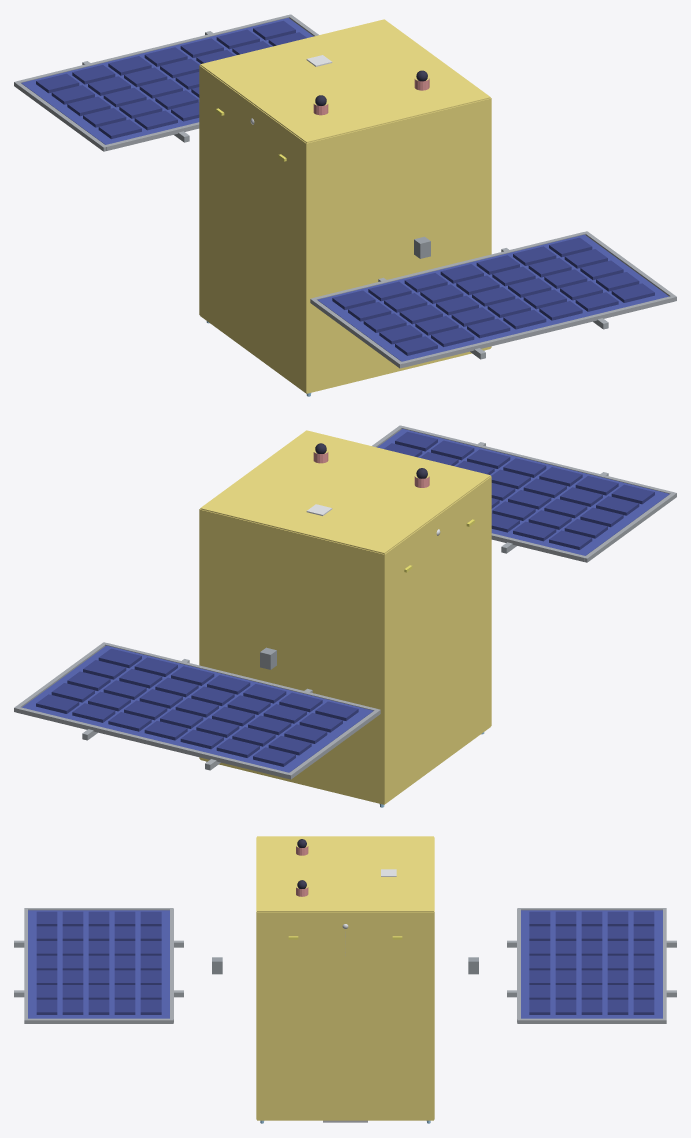
Rendered from oneweb.glb.
The picture shows the model from 3 angles, top to bottom: view 1: azimuth 30°, elevation 25°; view 2: azimuth 150°, elevation 25°; view 3: azimuth 270°, elevation 25°; orthographic projection. The views are drawn at different scales.
Visible parts, largest first — view 1: b15, b18, b13, b25, b68, b61, b62, b104, b64, b106, b105; view 2: b16, b18, b13, b68, b25, b104, b61, b105, b106, b64, b62; view 3: b17, b13, b25, b68, b63, b107, b62, b105, b61, b104.
Boxes of the visible parts, box(x1,y1,x2,y2) form: b15: box(306, 98, 491, 392); b18: box(199, 65, 306, 392); b13: box(200, 19, 490, 143); b25: box(317, 234, 668, 361); b68: box(21, 17, 313, 144); b61: box(401, 296, 673, 367); b62: box(313, 232, 585, 299); b104: box(17, 15, 289, 82); b64: box(310, 298, 402, 368); b106: box(14, 81, 106, 151); b105: box(105, 122, 199, 150); b16: box(199, 509, 384, 803); b18: box(384, 476, 491, 803); b13: box(200, 430, 490, 554); b68: box(22, 645, 373, 772); b25: box(377, 428, 669, 555); b104: box(17, 707, 289, 778); b61: box(401, 426, 673, 493); b105: box(105, 643, 376, 710); b106: box(288, 709, 380, 779); b64: box(584, 492, 676, 562); b62: box(491, 533, 585, 561); b17: box(257, 912, 433, 1119); b13: box(257, 836, 433, 911); b25: box(28, 910, 169, 1018); b68: box(521, 910, 662, 1018); b63: box(24, 1018, 173, 1023); b107: box(517, 1018, 666, 1023); b62: box(170, 909, 173, 1022); b105: box(517, 909, 520, 1022); b61: box(24, 909, 27, 1018); b104: box(663, 909, 666, 1018).
Size of the model in its own units: 1.53 by 1.57 by 3.82.
